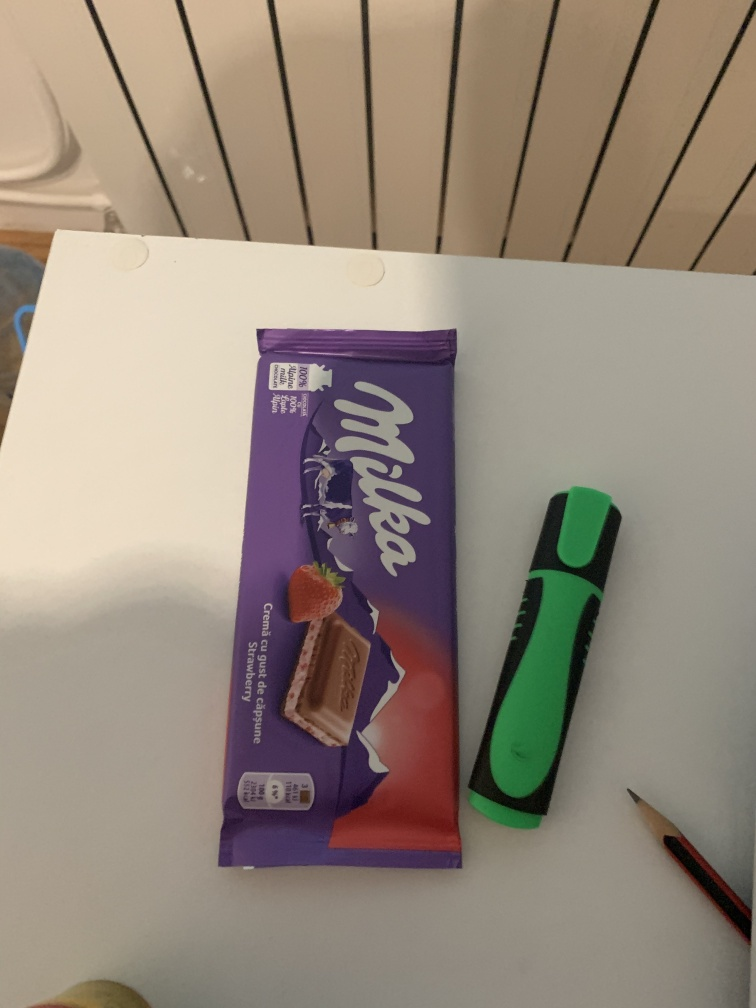milka: (216, 323, 466, 873)
